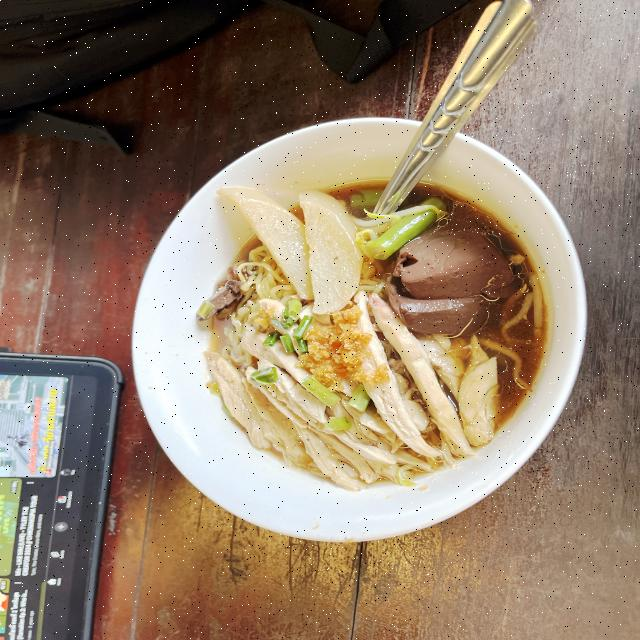boiled_chicken_blood_jelly: (381, 220, 509, 324)
chicken_shredded: (210, 311, 509, 458)
daikon_radish: (216, 180, 374, 303)
noodle: (139, 144, 588, 516)
